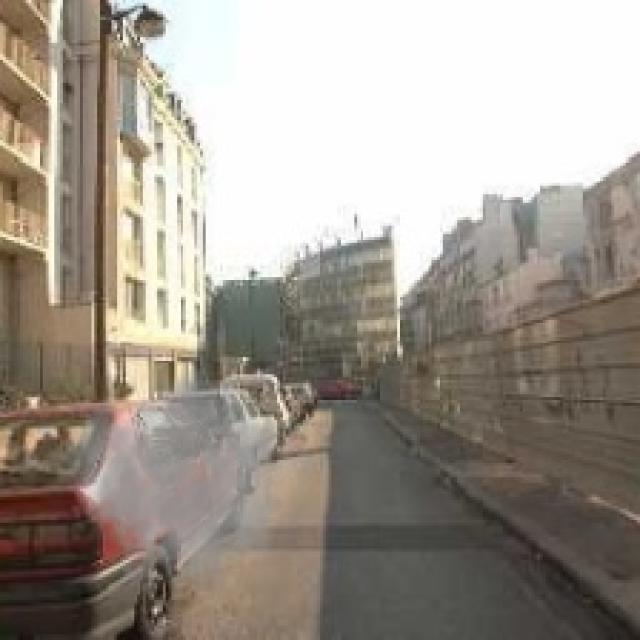Smoke: (59, 363, 294, 600)
